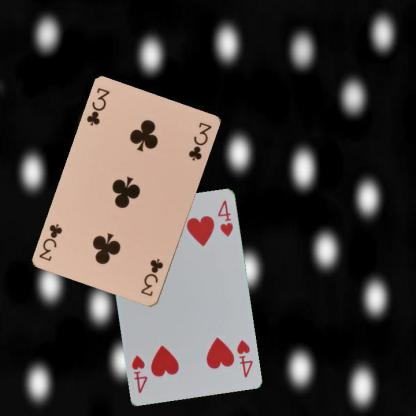3c: (138, 256, 165, 298), (84, 86, 111, 127)
4h: (233, 337, 254, 378)
